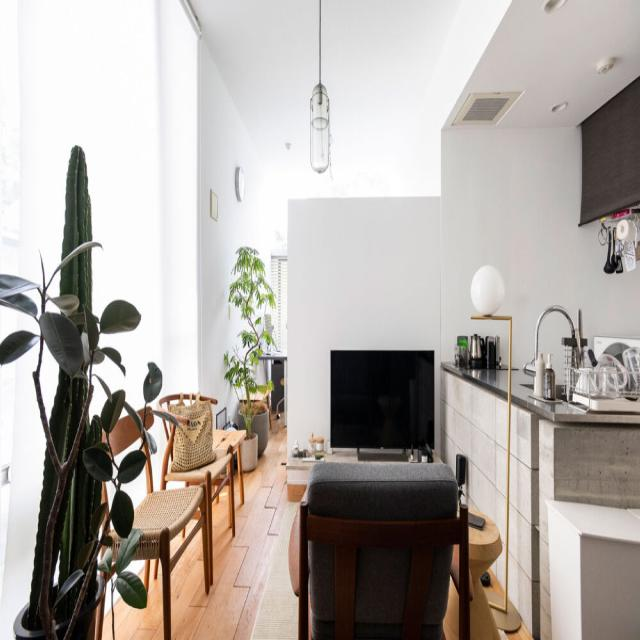vintage chair: (286, 459, 473, 640), (93, 404, 206, 640), (157, 382, 237, 584)
